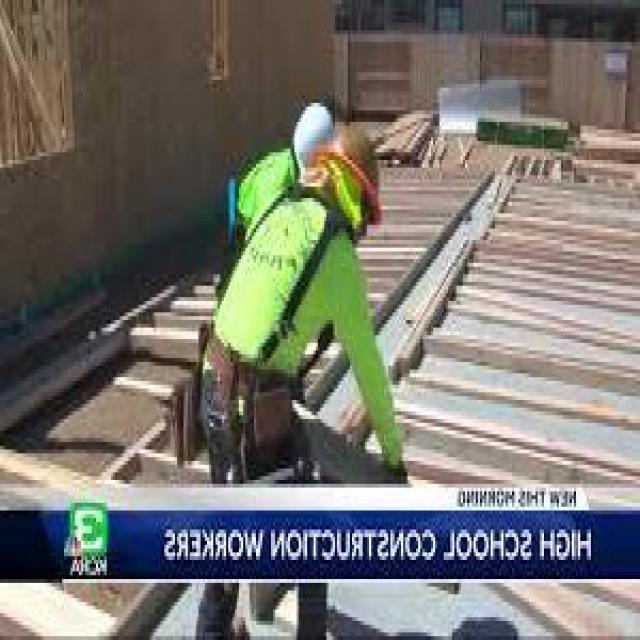Reflective-Jacket: (192, 145, 405, 465)
Safety-Helmet: (282, 88, 344, 179)
